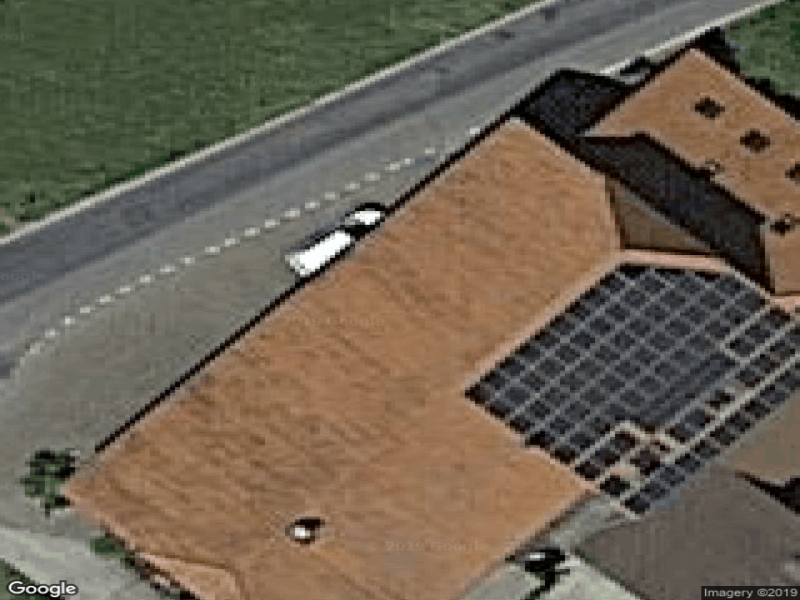pv: (466, 264, 800, 516)
